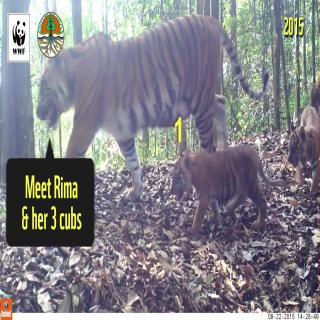Tiger: (31, 45, 280, 151), (164, 131, 276, 238), (285, 95, 320, 193)
